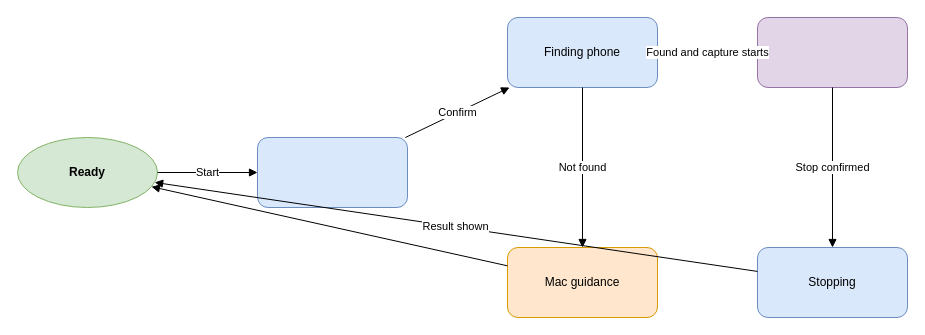
The diagram is 925 pixels wide and 335 high, and some of its shapes have lost their labels. The centre of each missing label's shape, as x and y in pixels:
Prerequisites: the point at 332,172
Recording: the point at 832,52
